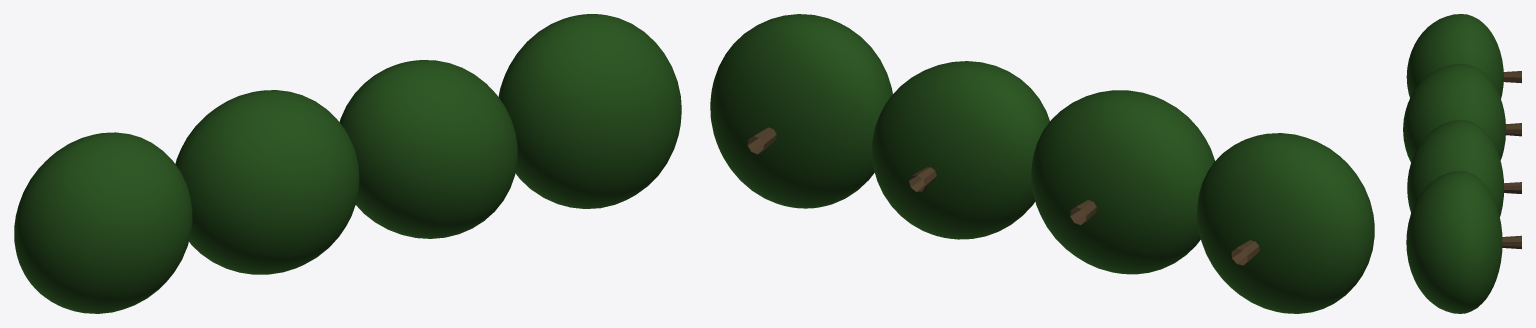
The model's file is citrus_plain4_b.obj.
The picture shows the model from 3 angles, left to right: view 1: azimuth 30°, elevation 25°; view 2: azimuth 150°, elevation 25°; view 3: azimuth 270°, elevation 25°; orthographic projection. The views are drawn at different scales.
Visible parts, largest first — view 1: canopy; view 2: canopy, trunk; view 3: canopy, trunk.
Part boxes in pixels (x1,y1,x2,y2): canopy: [14, 14, 681, 313]; canopy: [710, 14, 1374, 313]; trunk: [747, 127, 1259, 265]; canopy: [1403, 14, 1505, 313]; trunk: [1502, 71, 1521, 249].
Size of the model in its own units: 12.1 by 3.32 by 2.81.
